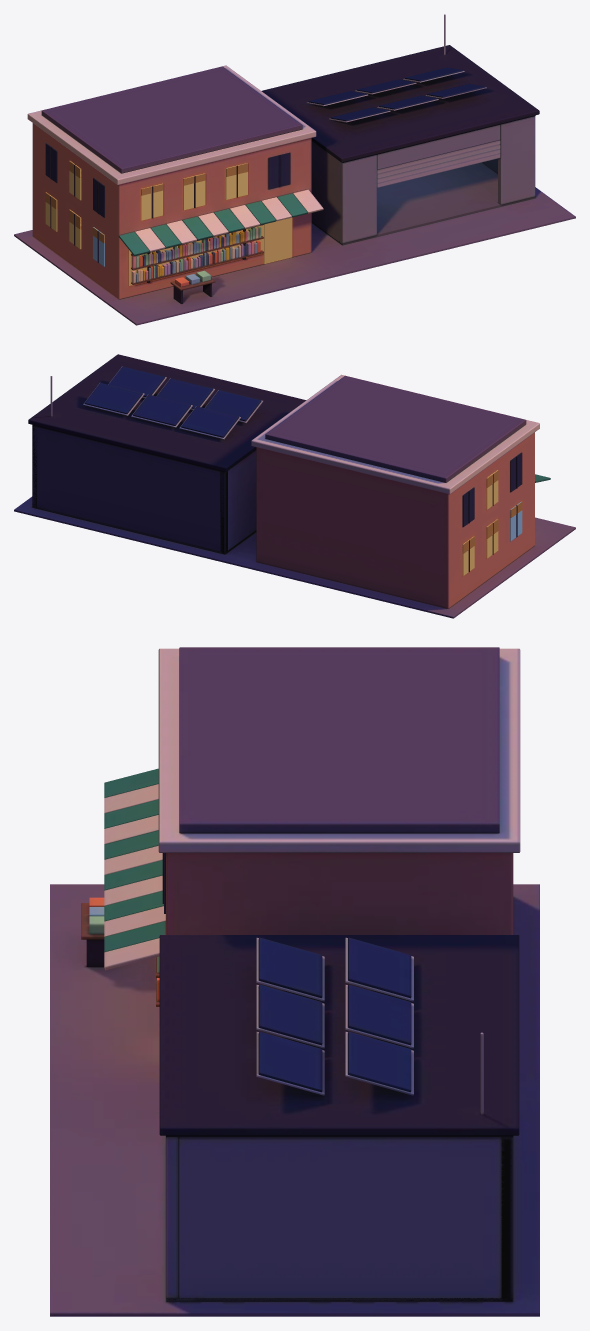
The model's file is interests.glb.
3 renders of one model, top to bottom at view 1: azimuth 30°, elevation 25°; view 2: azimuth 150°, elevation 25°; view 3: azimuth 270°, elevation 25°, orthographic. The views are drawn at different scales.
Parts seen in each view (by area): view 1: interests; view 2: interests; view 3: interests.
Boxes of the visible parts, x1,y1,x2,y2 form: interests: (14, 14, 575, 325); interests: (14, 354, 575, 618); interests: (50, 647, 539, 1316).
Size of the model in its own units: 11.4 by 3.23 by 5.5.
1 material, 1 textured.
